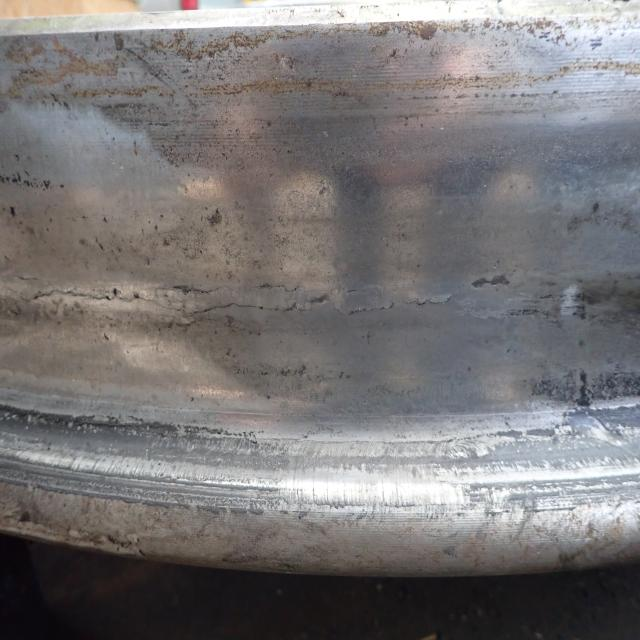Contact_Fatigue_Cracks: (34, 281, 324, 320), (349, 287, 456, 327)
Peeling: (597, 370, 640, 405), (577, 368, 595, 413), (473, 272, 514, 291), (207, 209, 226, 230), (8, 204, 19, 217)
